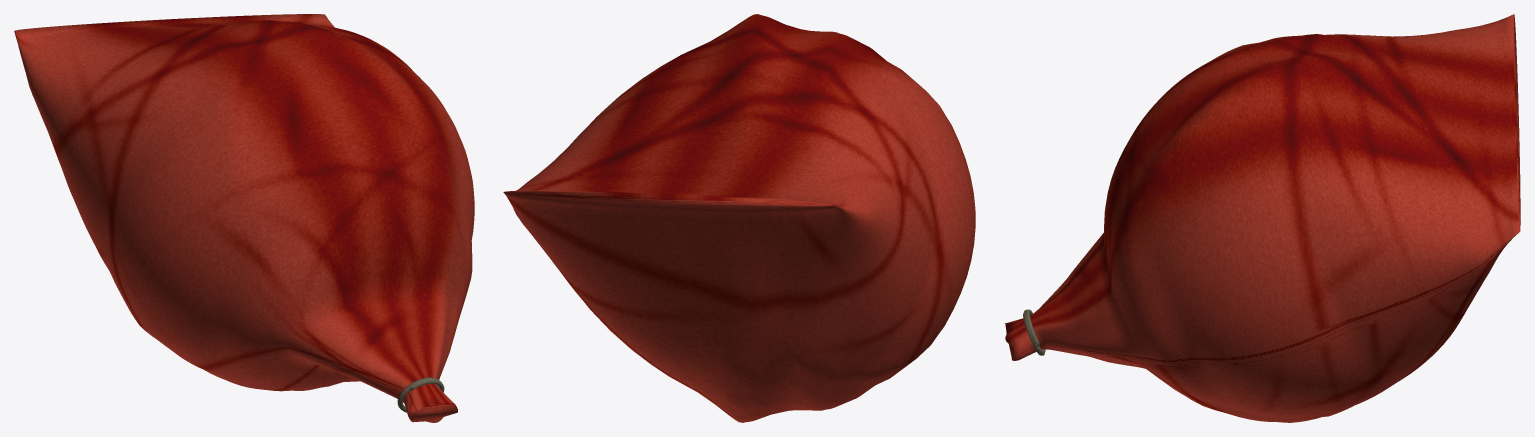
Rendered from peach_01_021.glb.
3 views of the same model, side by side, from view 1: azimuth 30°, elevation 25°; view 2: azimuth 150°, elevation 25°; view 3: azimuth 270°, elevation 25° (orthographic). The views are drawn at different scales.
Visible parts, largest first — view 1: export_Tree01/shoot1_2_1/bag, export_Tree01/shoot1_2_1/bag/tie; view 2: export_Tree01/shoot1_2_1/bag; view 3: export_Tree01/shoot1_2_1/bag.
Part boxes in pixels (box(x1,y1,x2,y2)): export_Tree01/shoot1_2_1/bag: box(14, 14, 474, 422); export_Tree01/shoot1_2_1/bag/tie: box(397, 377, 444, 412); export_Tree01/shoot1_2_1/bag: box(503, 14, 975, 422); export_Tree01/shoot1_2_1/bag: box(1004, 14, 1520, 422).
Bounding box in the file's own units: 0.0898 × 0.0899 × 0.1184.
Materials: 4 (1 with a texture image).
